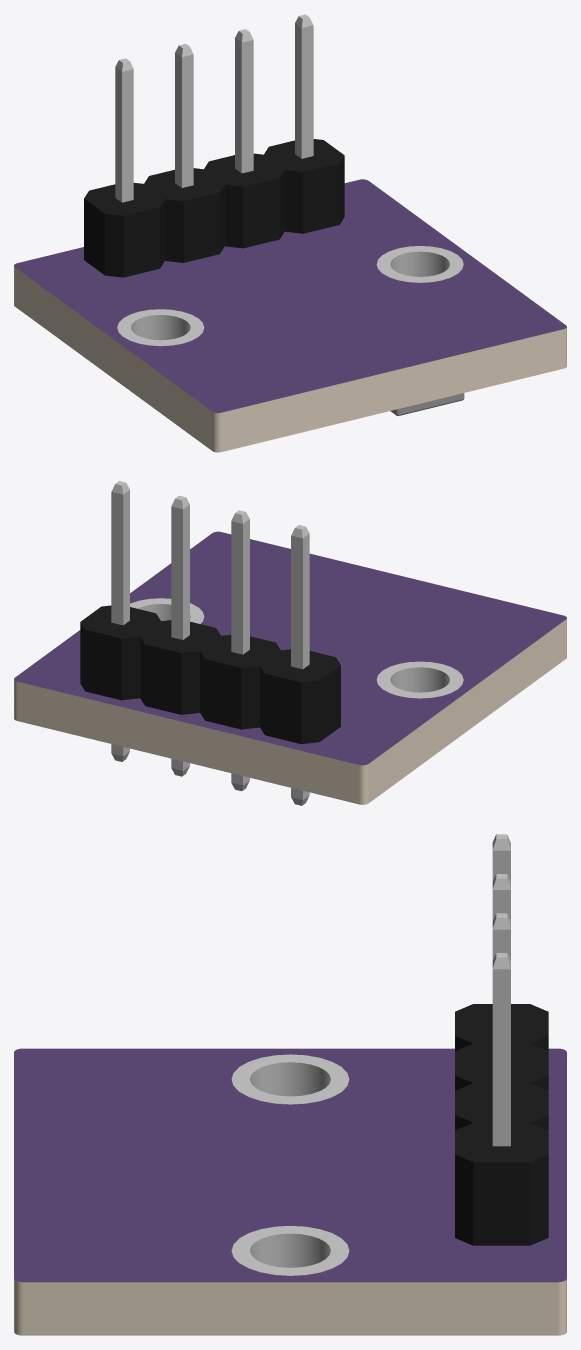
File: AHT20+BMP280.obj
3 renders of one model, top to bottom at view 1: azimuth 30°, elevation 25°; view 2: azimuth 150°, elevation 25°; view 3: azimuth 270°, elevation 25°, orthographic. The views are drawn at different scales.
Visible parts, largest first — view 1: PCB, Shroud, Shroud:3, Shroud:1, Shroud:2, Pin:1, Pin, Pin:2, Pin:3, Sensor 2; view 2: PCB, Shroud, Shroud:3, Shroud:1, Shroud:2, Pin:2, Pin:1, Pin:3, Pin; view 3: PCB, Shroud:3, Pin:3, Shroud:1, Shroud:2, Shroud, Pin, Pin:2, Pin:1.
Boxes of the visible parts, bbox=[...] form: PCB: bbox=[14, 179, 566, 452]; Shroud: bbox=[84, 182, 164, 277]; Shroud:3: bbox=[264, 139, 344, 233]; Shroud:1: bbox=[144, 168, 224, 262]; Shroud:2: bbox=[204, 153, 284, 248]; Pin:1: bbox=[175, 43, 193, 187]; Pin: bbox=[115, 58, 133, 202]; Pin:2: bbox=[235, 29, 253, 173]; Pin:3: bbox=[295, 14, 313, 158]; Sensor 2: bbox=[390, 393, 464, 415]; PCB: bbox=[14, 531, 566, 804]; Shroud: bbox=[260, 649, 340, 744]; Shroud:3: bbox=[80, 605, 160, 700]; Shroud:1: bbox=[200, 634, 280, 729]; Shroud:2: bbox=[140, 620, 220, 714]; Pin:2: bbox=[171, 495, 189, 776]; Pin:1: bbox=[231, 510, 249, 791]; Pin:3: bbox=[111, 481, 129, 761]; Pin: bbox=[291, 525, 309, 805]; PCB: bbox=[14, 1048, 566, 1335]; Shroud:3: bbox=[455, 1122, 548, 1245]; Pin:3: bbox=[492, 953, 510, 1146]; Shroud:1: bbox=[455, 1043, 548, 1090]; Shroud:2: bbox=[455, 1083, 548, 1130]; Shroud: bbox=[455, 1004, 548, 1050]; Pin: bbox=[492, 834, 510, 881]; Pin:2: bbox=[492, 913, 510, 960]; Pin:1: bbox=[492, 874, 510, 921].
Size of the model in its own units: 1.5 by 1.12 by 1.5.
